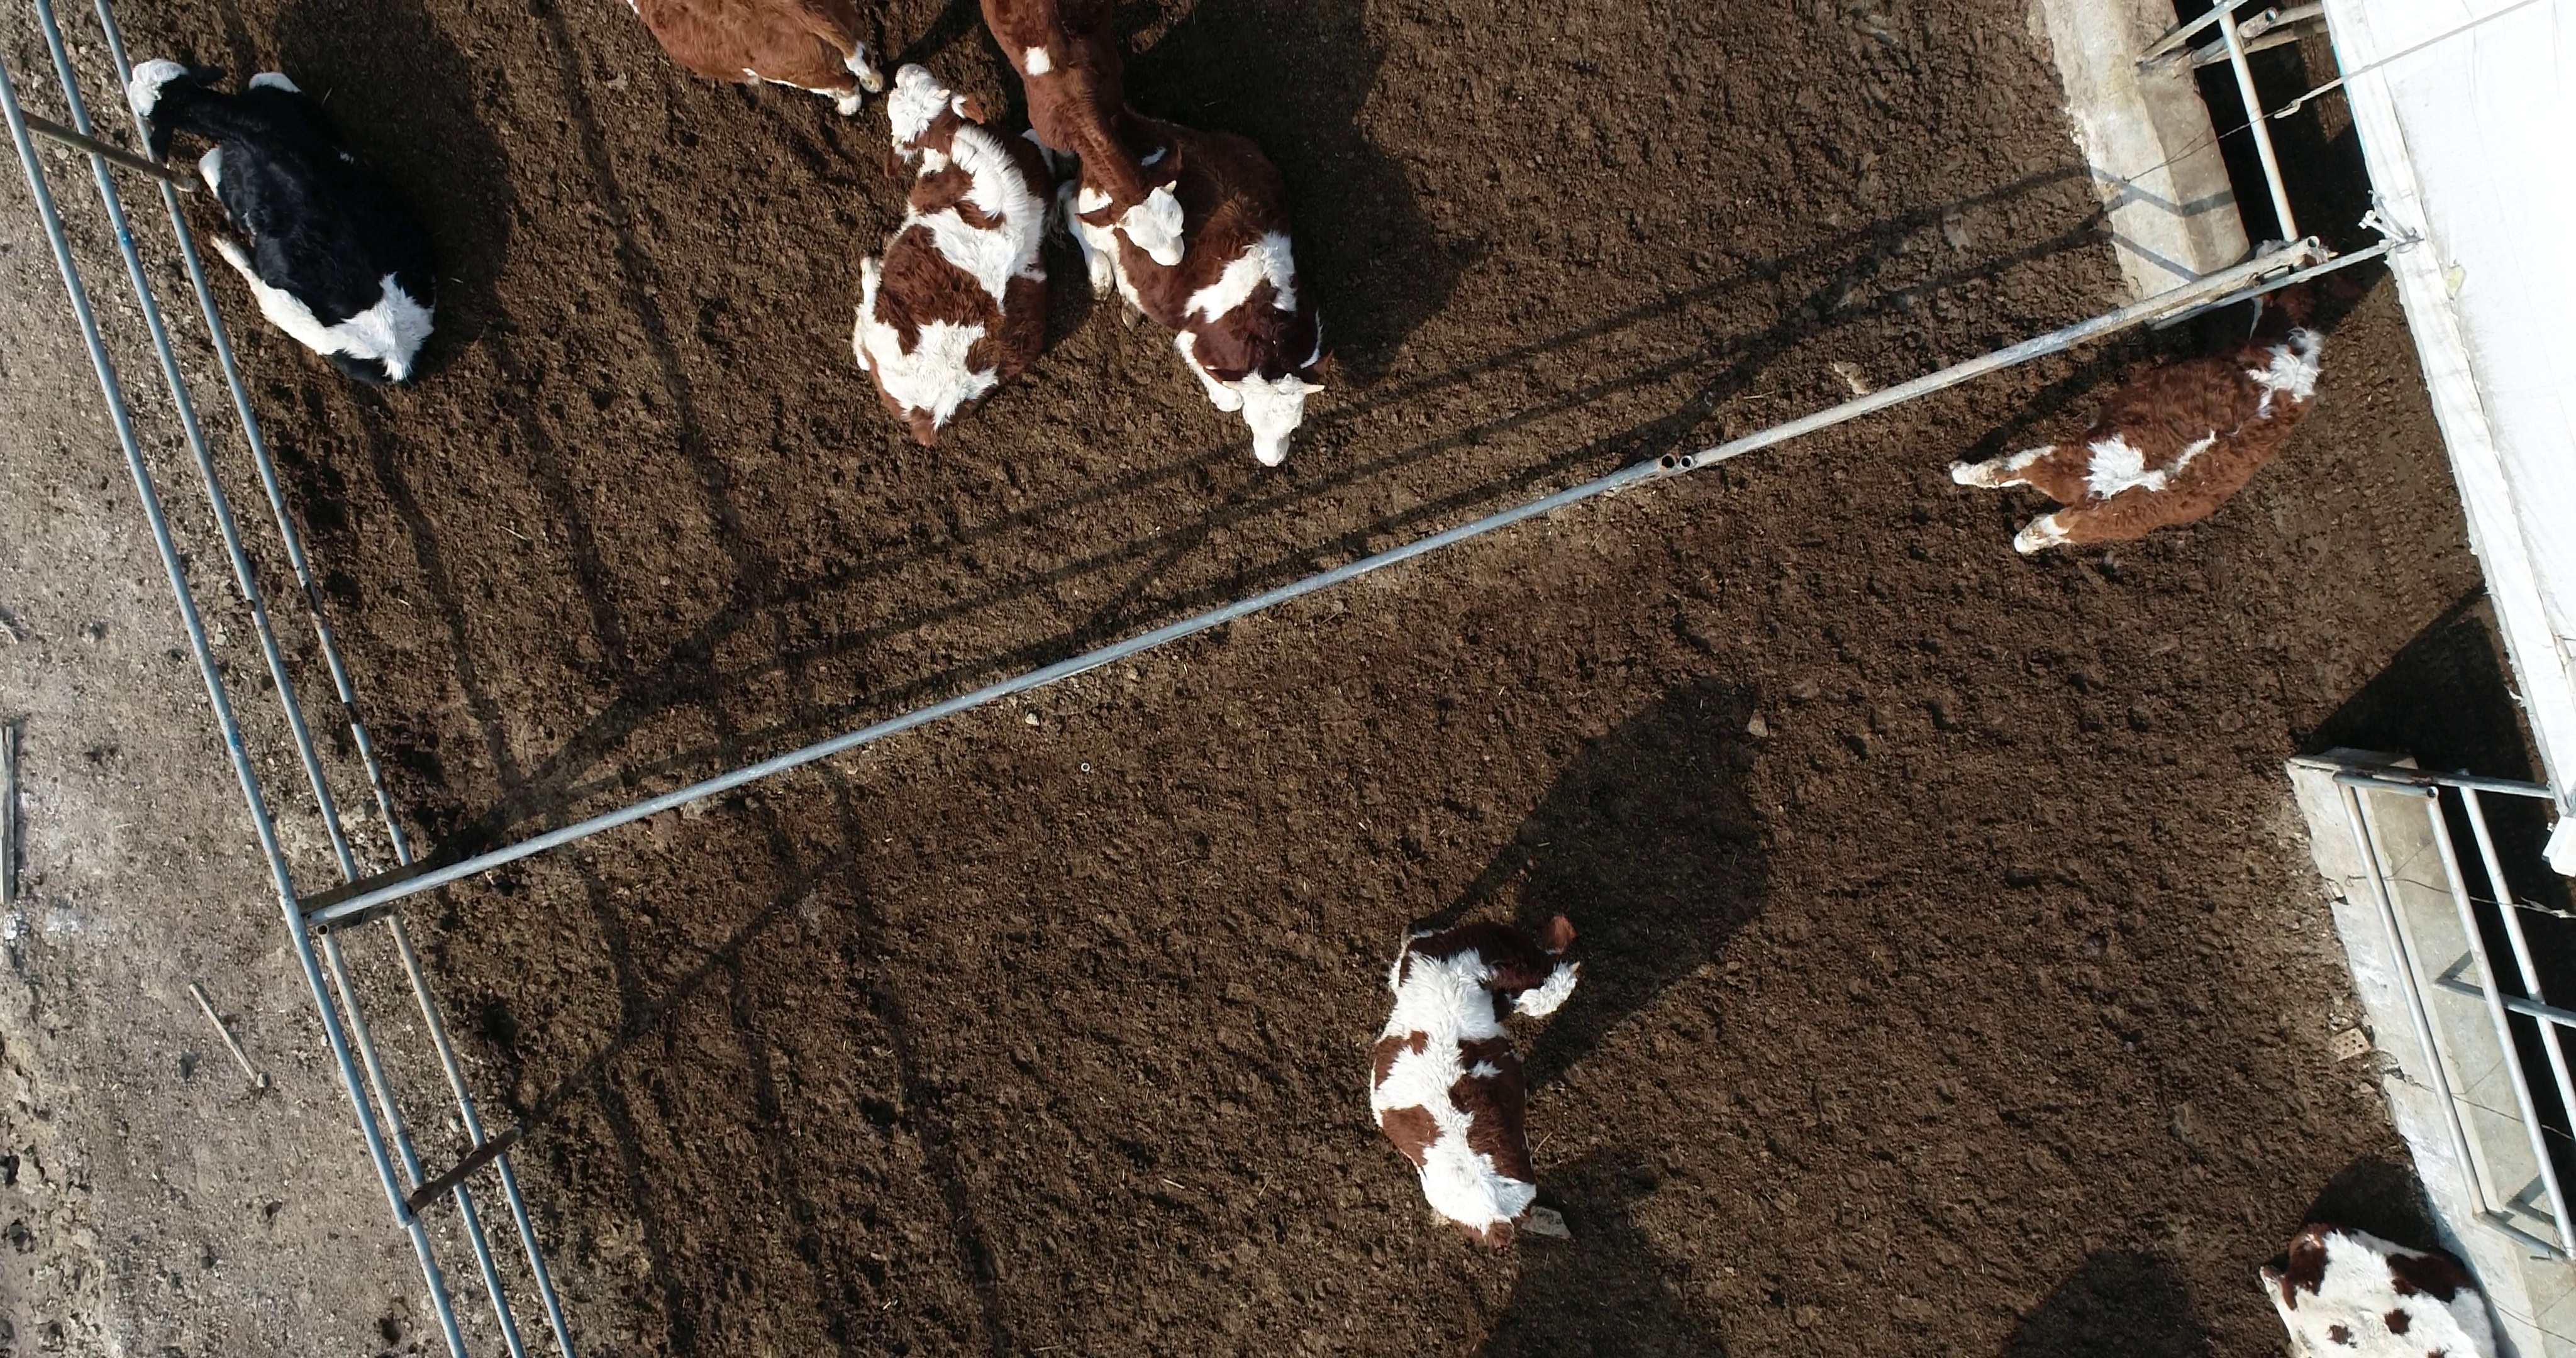cattle: (1942, 233, 2349, 561), (109, 43, 446, 383), (833, 55, 1070, 455), (1363, 905, 1583, 1252)
